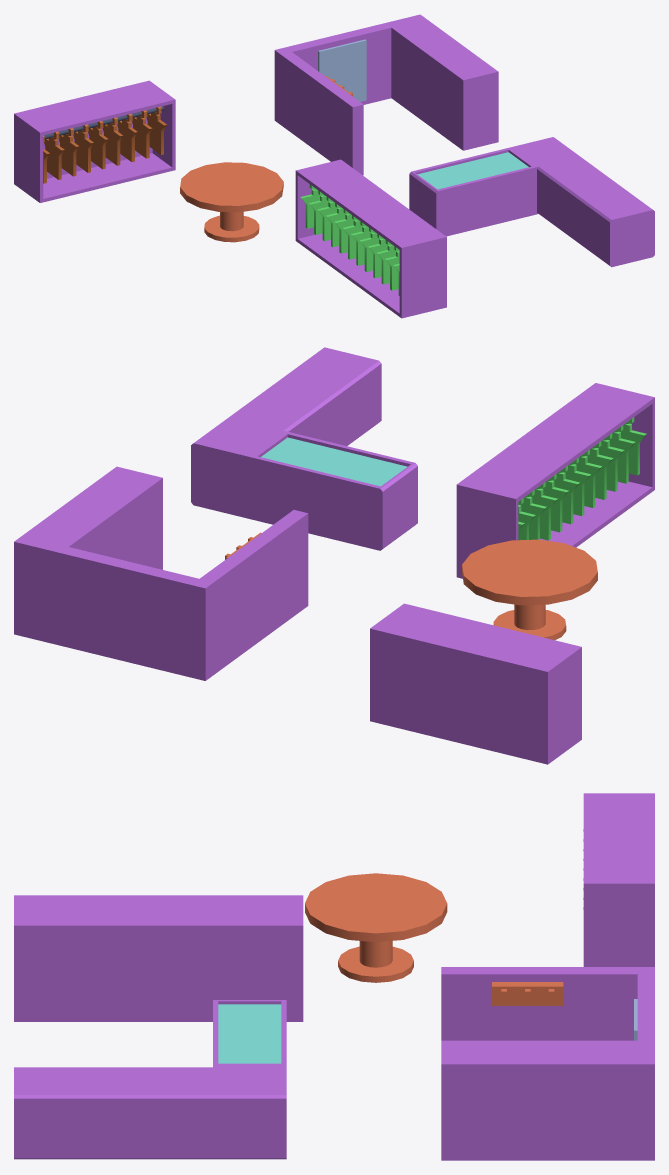
Rendered from Platform14Reworked_withoutfloor.fbx.
The picture shows the model from 3 angles, top to bottom: view 1: azimuth 30°, elevation 25°; view 2: azimuth 150°, elevation 25°; view 3: azimuth 270°, elevation 25°; orthographic projection. The views are drawn at different scales.
Parts seen in each view (by area): view 1: Cube.358, Cube.361, Cube.364, Cube.360, Cylinder.053, Cube.362, Cube.365; view 2: Cube.358, Cube.361, Cube.360, Cube.364, Cylinder.053, Cube.365; view 3: Cube.358, Cube.364, Cube.361, Cube.360, Cylinder.053, Cube.363.
Boxes of the visible parts, x1,y1,x2,y2 form: Cube.358: [274, 14, 498, 175]; Cube.361: [409, 137, 654, 267]; Cube.364: [295, 159, 446, 318]; Cube.360: [14, 80, 175, 202]; Cylinder.053: [180, 162, 283, 242]; Cube.362: [43, 106, 166, 183]; Cube.365: [300, 184, 399, 295]; Cube.358: [14, 466, 308, 680]; Cube.361: [191, 347, 417, 550]; Cube.360: [370, 603, 581, 764]; Cube.364: [456, 383, 654, 578]; Cylinder.053: [462, 539, 597, 640]; Cube.365: [518, 417, 646, 540]; Cube.358: [441, 967, 654, 1160]; Cube.364: [14, 895, 303, 1021]; Cube.361: [14, 1000, 286, 1159]; Cube.360: [583, 793, 654, 966]; Cylinder.053: [305, 873, 447, 982]; Cube.363: [492, 982, 563, 1005].
Size of the model in its own units: 900 by 149 by 900.
